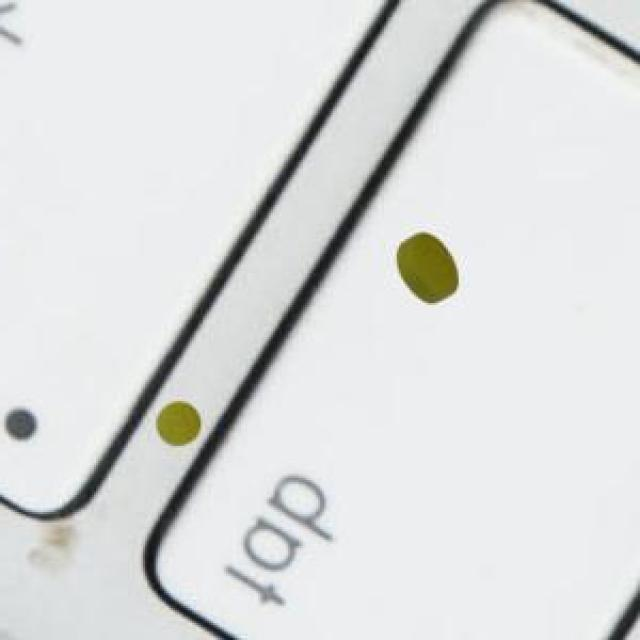Decolgen: (384, 218, 469, 320), (151, 388, 208, 462)
